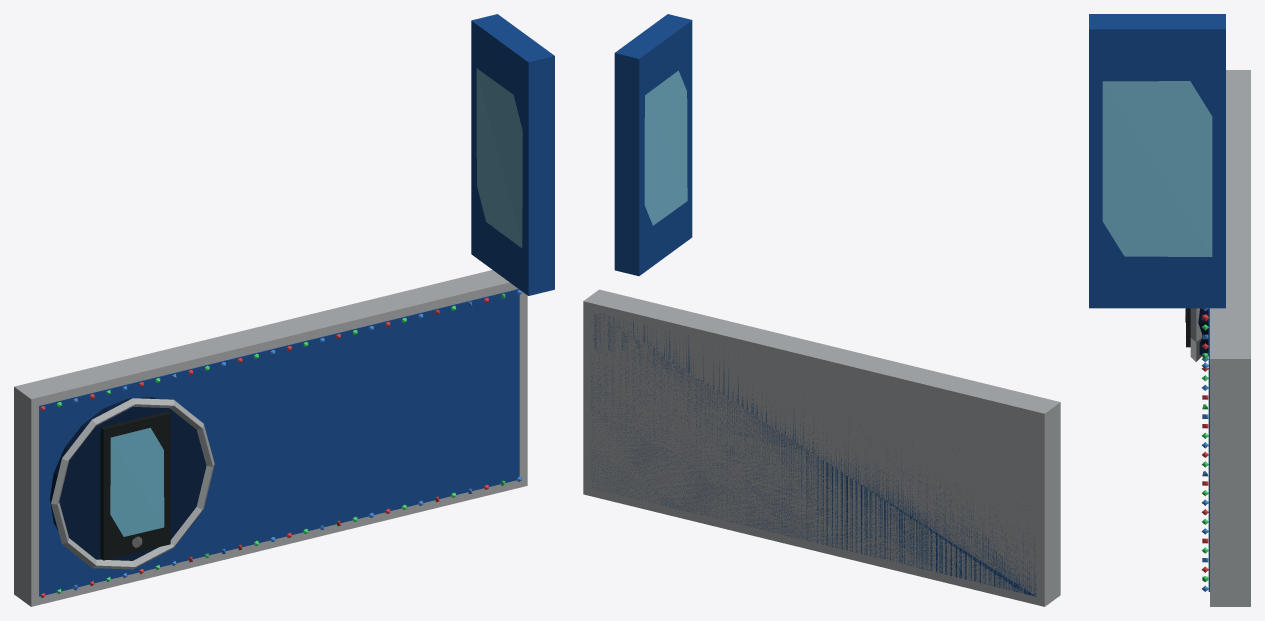
Rendered from bang_sua_dien_thoai_tuan_32.glb.
3 views of the same model, side by side, from view 1: azimuth 30°, elevation 25°; view 2: azimuth 150°, elevation 25°; view 3: azimuth 270°, elevation 25° (orthographic). The views are drawn at different scales.
Parts seen in each view (by area): view 1: bang_sua_dien_thoai_tuan_32; view 2: bang_sua_dien_thoai_tuan_32; view 3: bang_sua_dien_thoai_tuan_32.
Part boxes in pixels (box(x1,y1,x2,y2)): bang_sua_dien_thoai_tuan_32: box(14, 14, 554, 606); bang_sua_dien_thoai_tuan_32: box(583, 14, 1060, 606); bang_sua_dien_thoai_tuan_32: box(1089, 14, 1250, 606).
Bounding box in the file's own units: 3 × 2.73 × 0.71.
